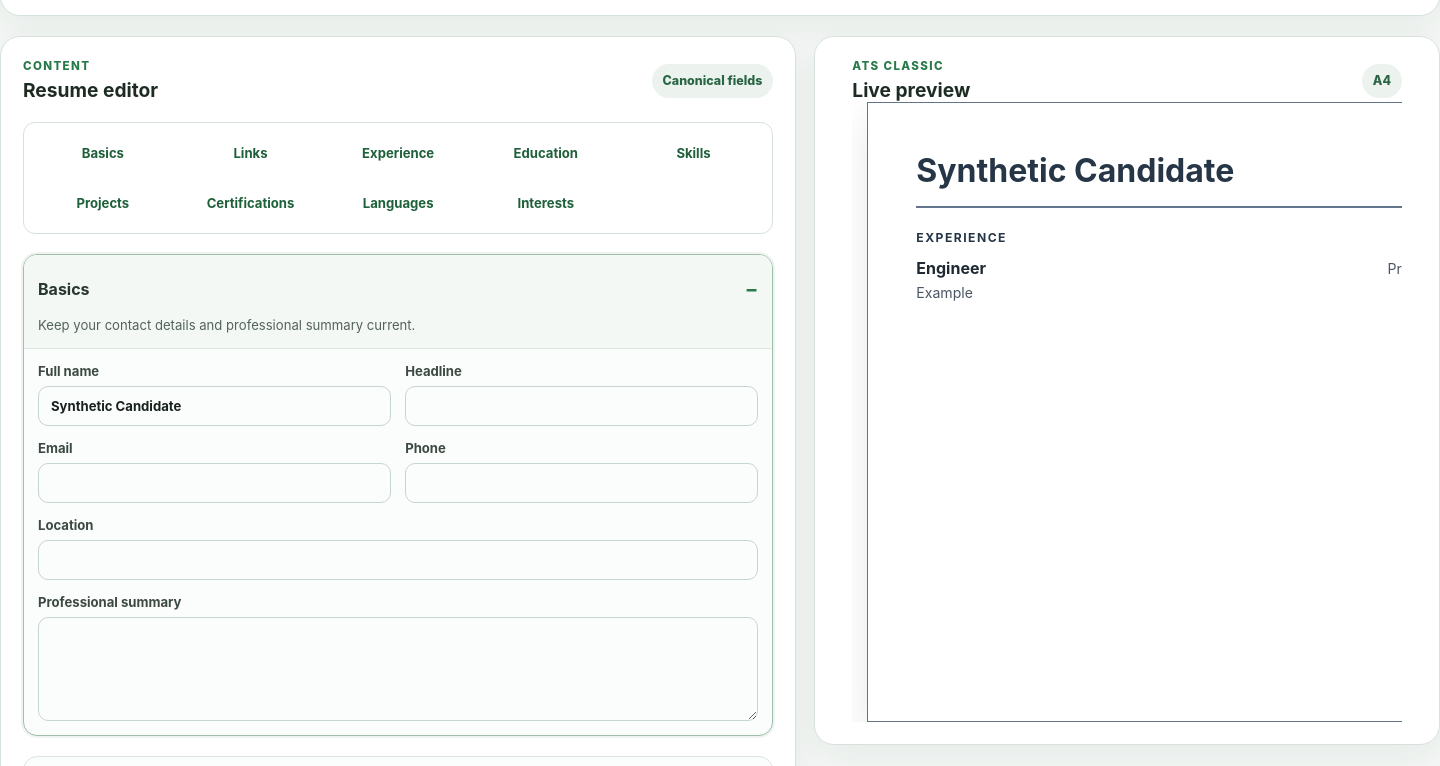
Test case: ResumeWorkspace › edits with stable identity, previews live, and adopts the canonical save response
The image size is (1440, 766).
(page scrolled)
Replace the text in the field labelled "Full name" with "Updated Candidate" at [215, 406], box [38,386,391,426]
(page scrolled)
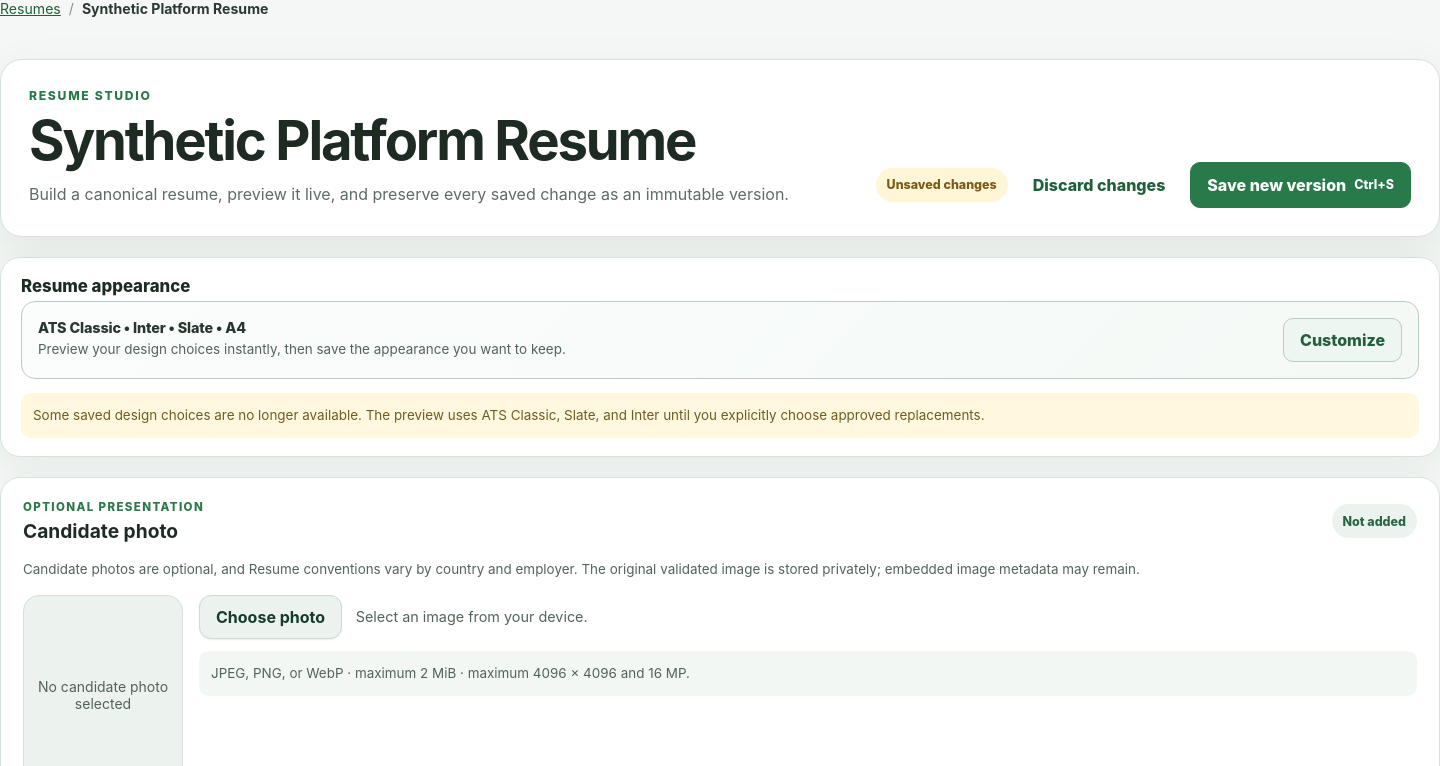
Expected: the text "Unsaved changes" is shown, [876,168,1008,202]
Click the button "Save new version Ctrl+S" at [1301, 185], box [1190,162,1411,208]
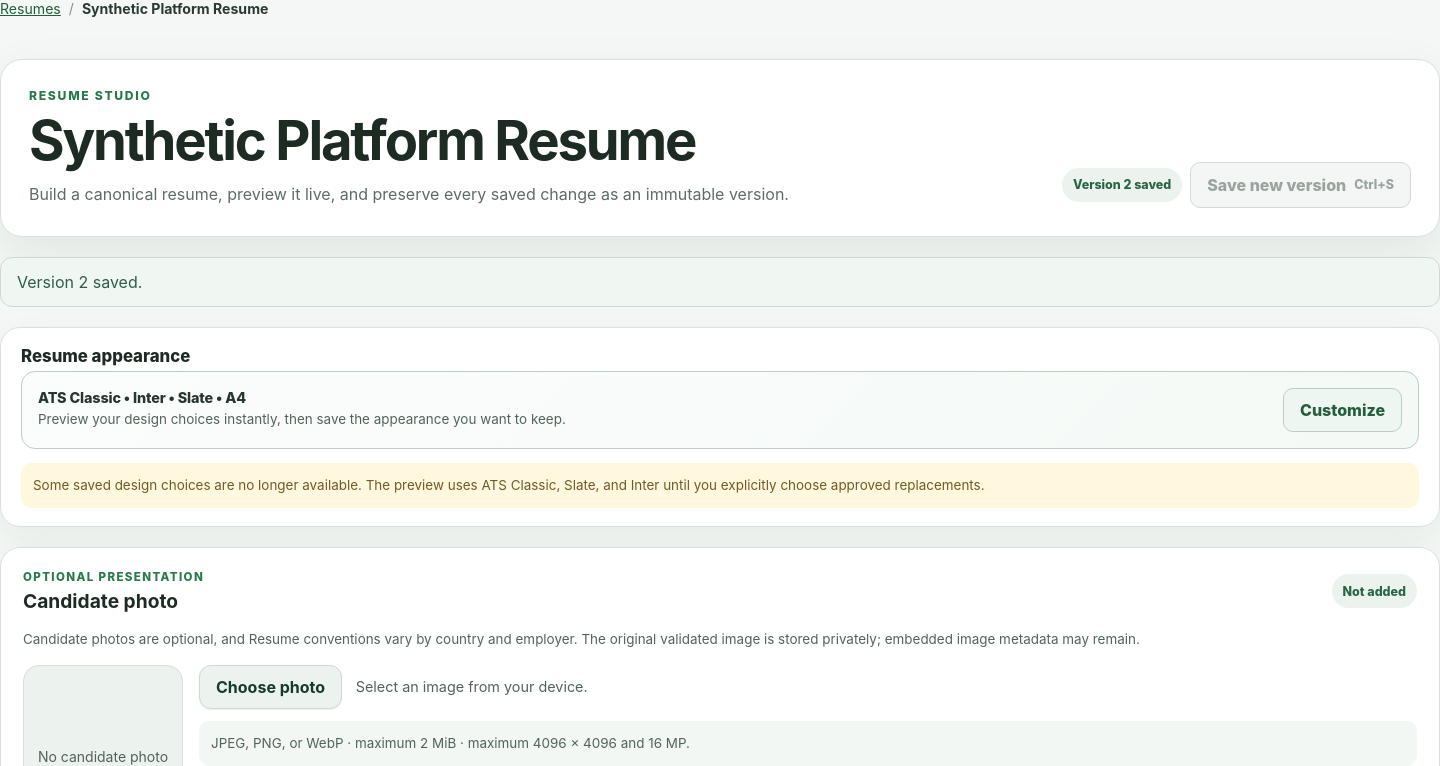
Expected: the text "Version 2 saved." is shown, [17,272,142,292]
Expected: the text "Unsaved changes" is gone
Expected: the text "Version 2 saved" is shown, [1062,168,1182,202]
